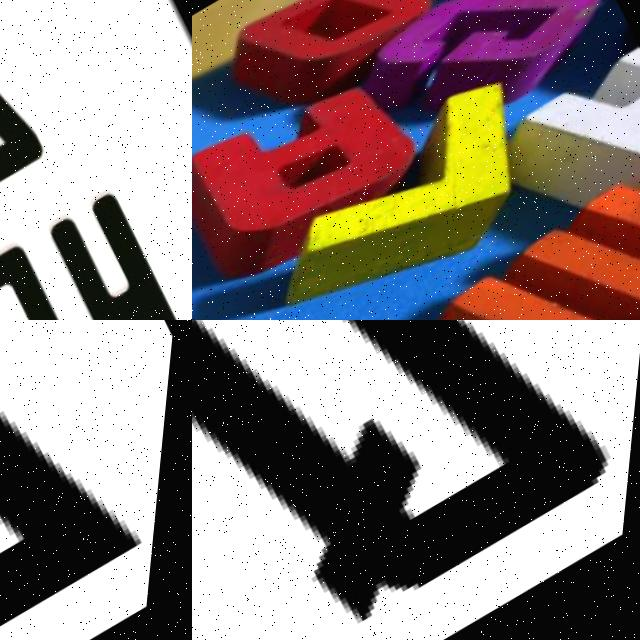B: (0, 408, 147, 640)
F: (364, 0, 602, 134)
H: (36, 186, 192, 320)
L: (239, 65, 581, 320)
O: (205, 0, 451, 135)
Q: (192, 320, 640, 640)
R: (0, 239, 147, 320)
W: (398, 143, 640, 320)
Z: (0, 0, 66, 201)
